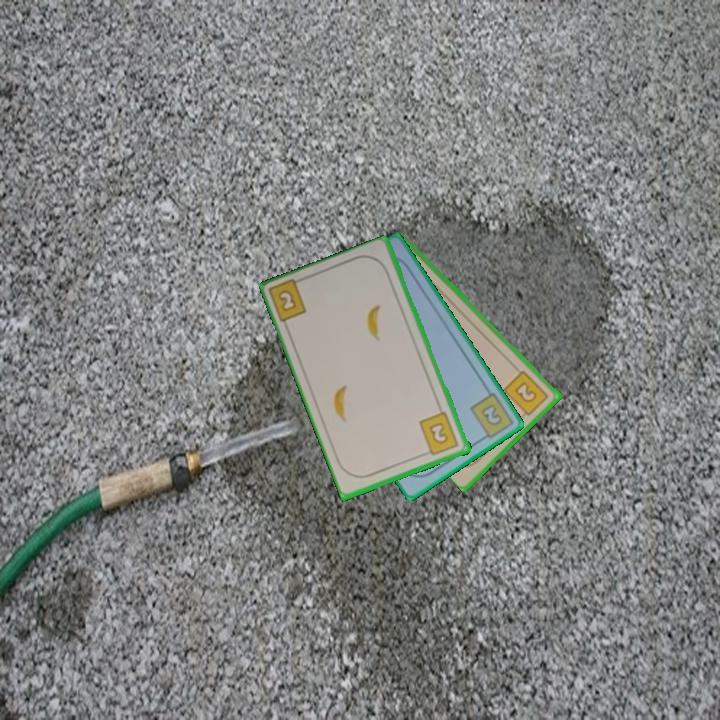2b: (500, 367, 552, 421), (466, 389, 516, 444), (416, 409, 462, 459), (267, 274, 310, 326)
